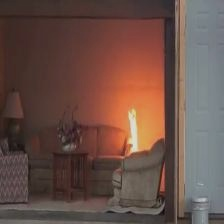fire: (123, 104, 150, 153)
